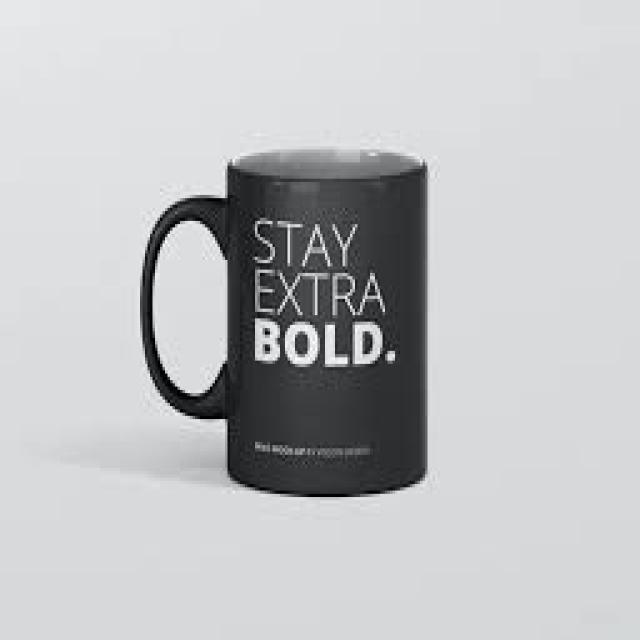taza: (140, 146, 429, 499)
